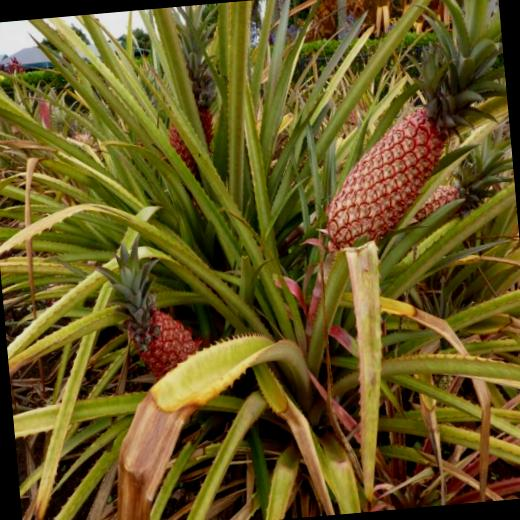Mango: (302, 0, 519, 256), (90, 232, 206, 384), (149, 2, 237, 200), (405, 117, 516, 232), (124, 60, 169, 160), (35, 84, 51, 130)
